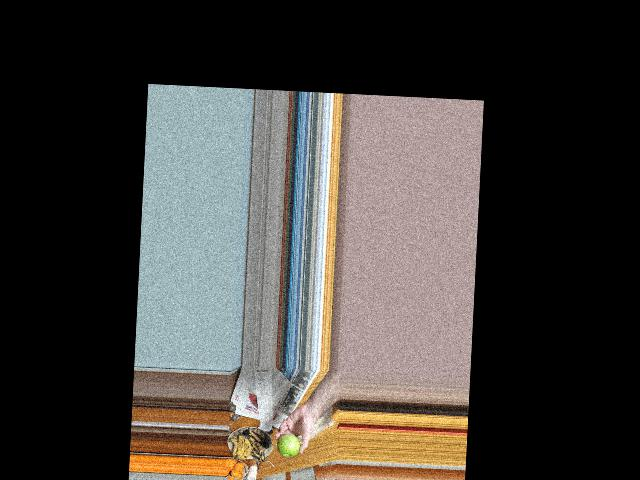apple: (280, 433, 302, 457)
